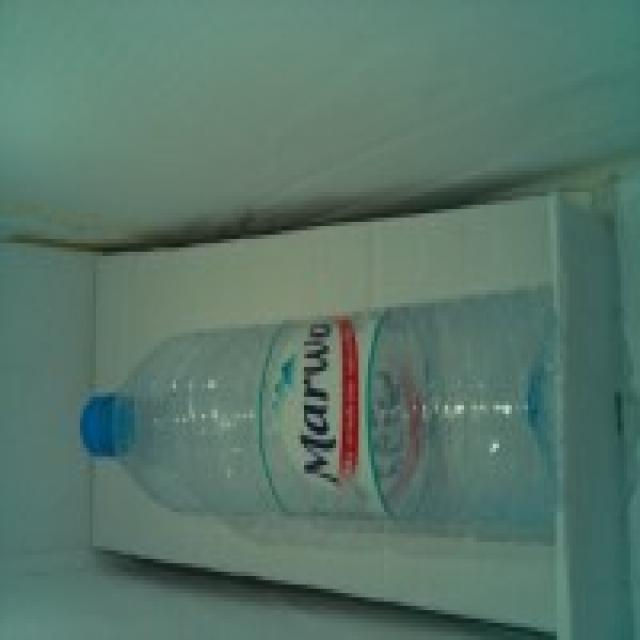blue: (106, 290, 556, 545)
